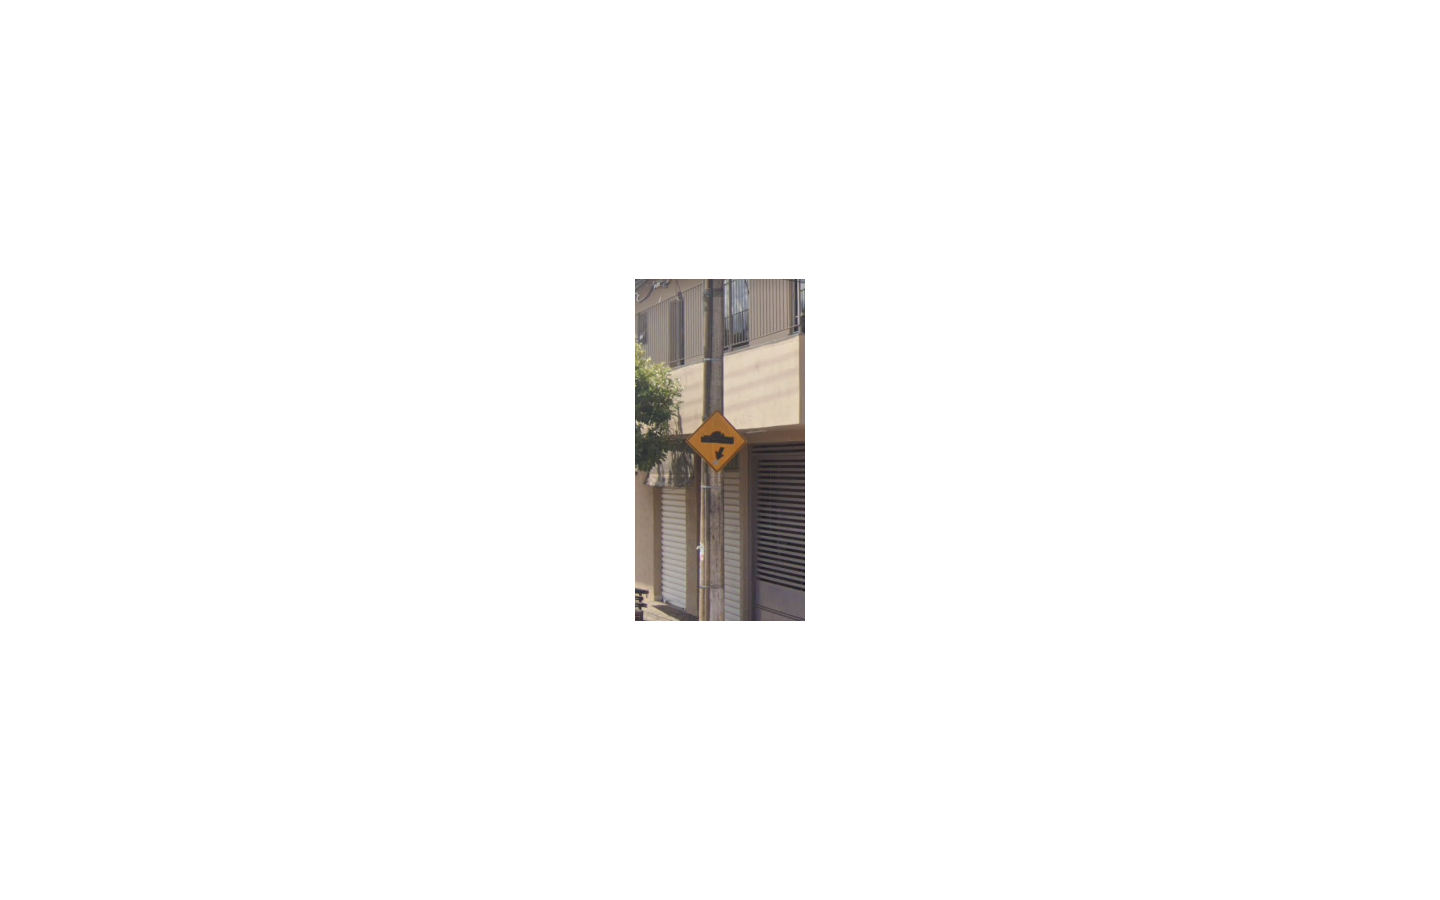lomb: (686, 409, 747, 473)
